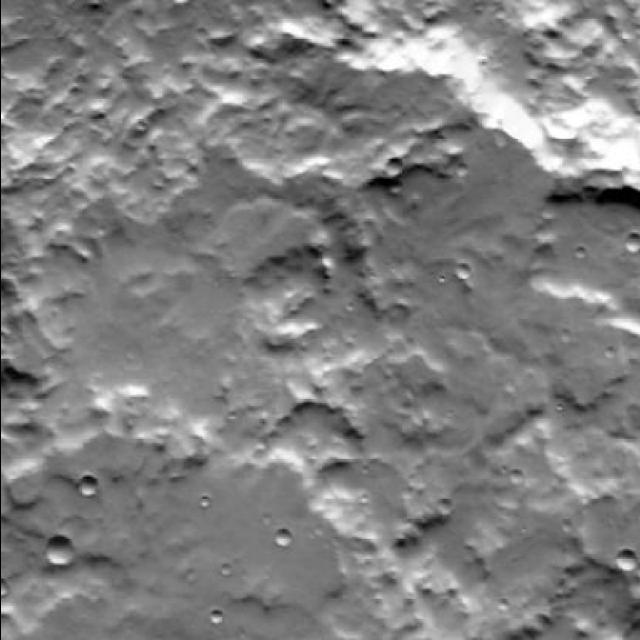crater: (48, 536, 74, 562), (616, 552, 638, 574), (78, 478, 98, 498), (175, 0, 199, 14), (280, 538, 298, 554), (632, 242, 640, 258)
